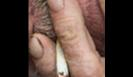Cigarette: (55, 39, 69, 77)
